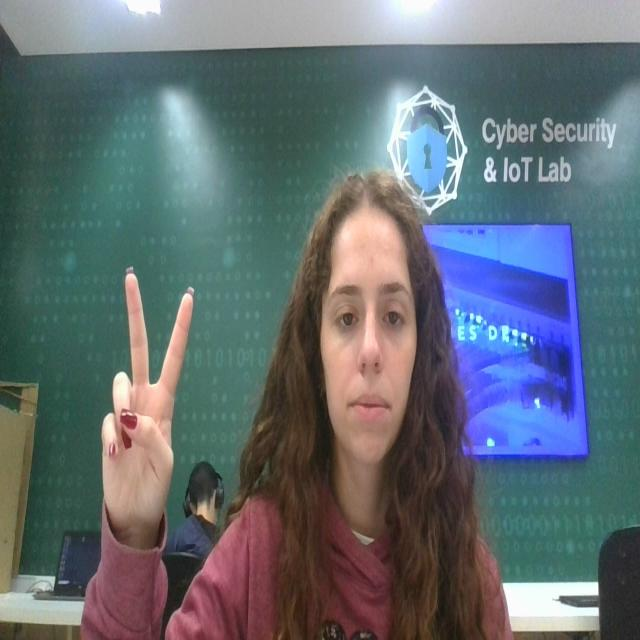V: (85, 264, 210, 549)
